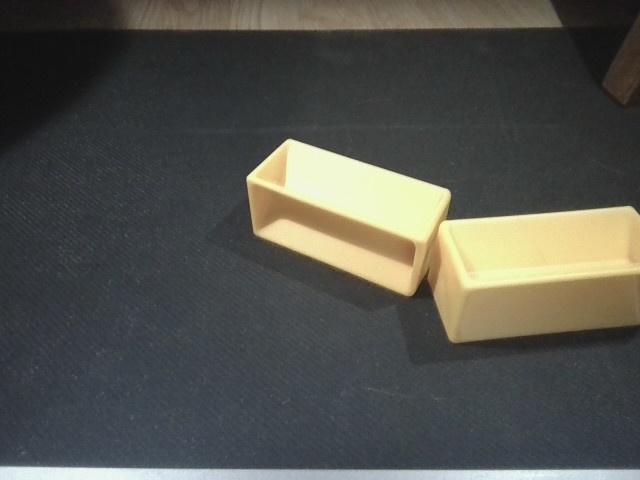YellowSample: (246, 135, 454, 298), (428, 204, 640, 348)
